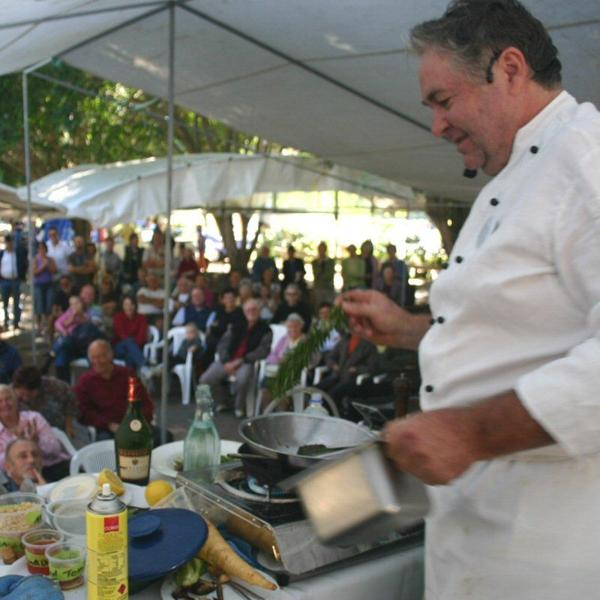person: (343, 7, 600, 599)
